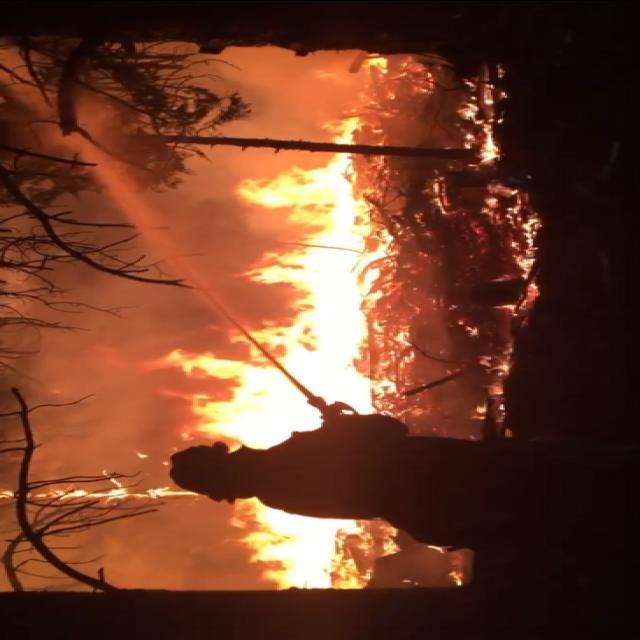Fire: (152, 110, 416, 584)
